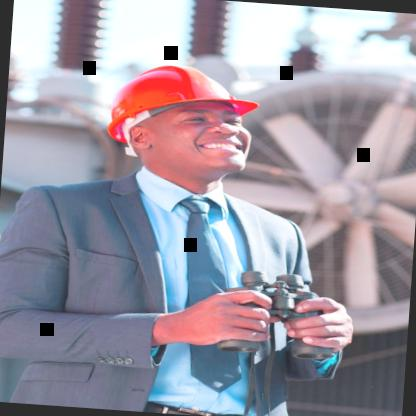helmet: (82, 44, 275, 190)
